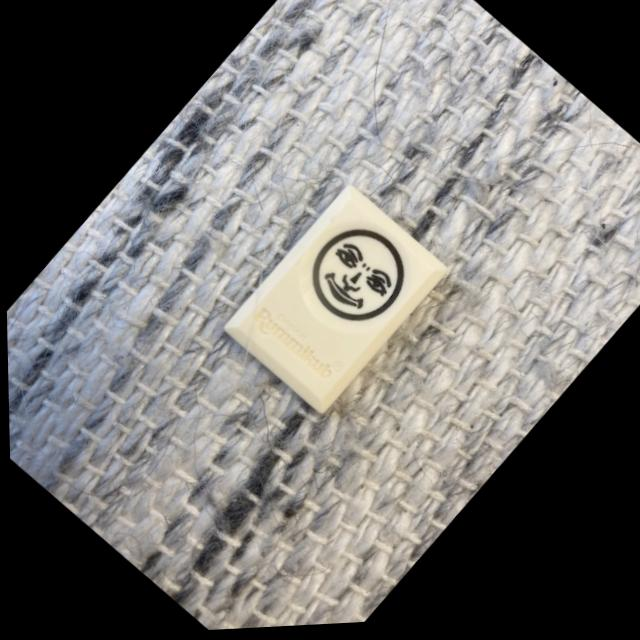joker: (223, 190, 445, 417)
